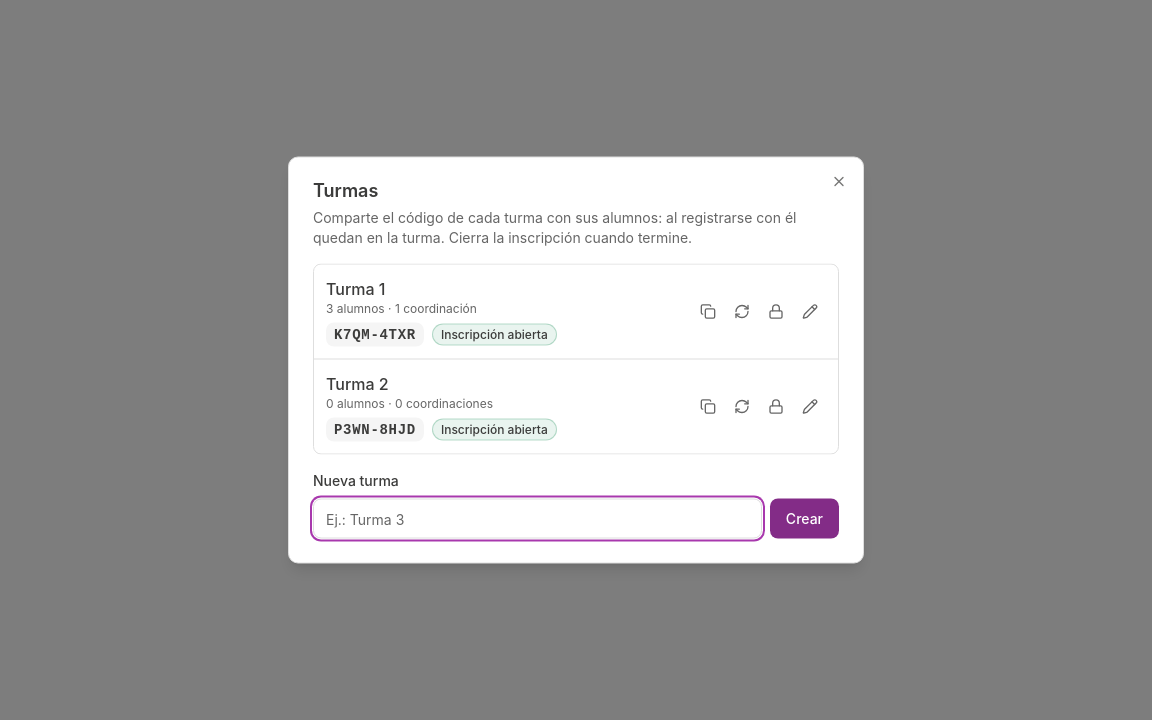
cohorts — Gestión del código y la inscripción en Turmas › cerrar la inscripción: muestra 'Cerrada' y la acción pasa a abrir
The image size is (1152, 720).
Expected: the text "Turma 2" is shown, [326, 374, 389, 394]
Click the button named "Cerrar la inscripción de Turma 2": (776, 406) [760, 390, 792, 422]
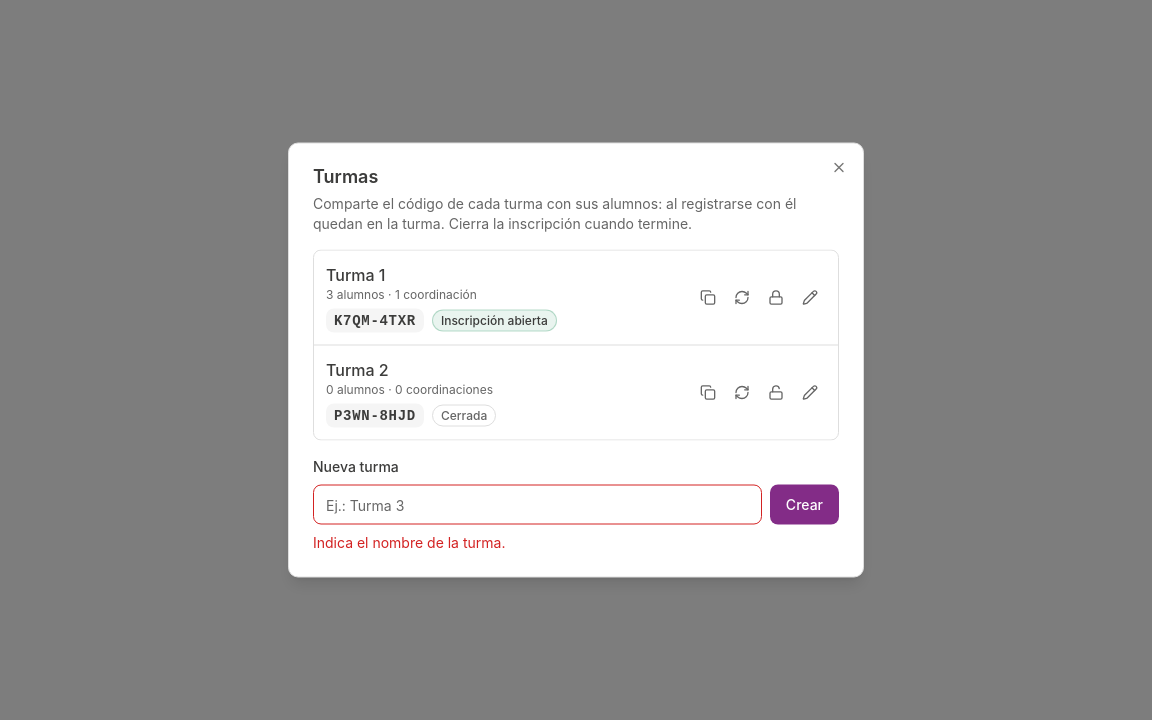
Now the text "Cerrada" is shown, box [432, 404, 496, 426]
Now the button named "Abrir la inscripción de Turma 2" is shown, box [760, 376, 792, 408]
